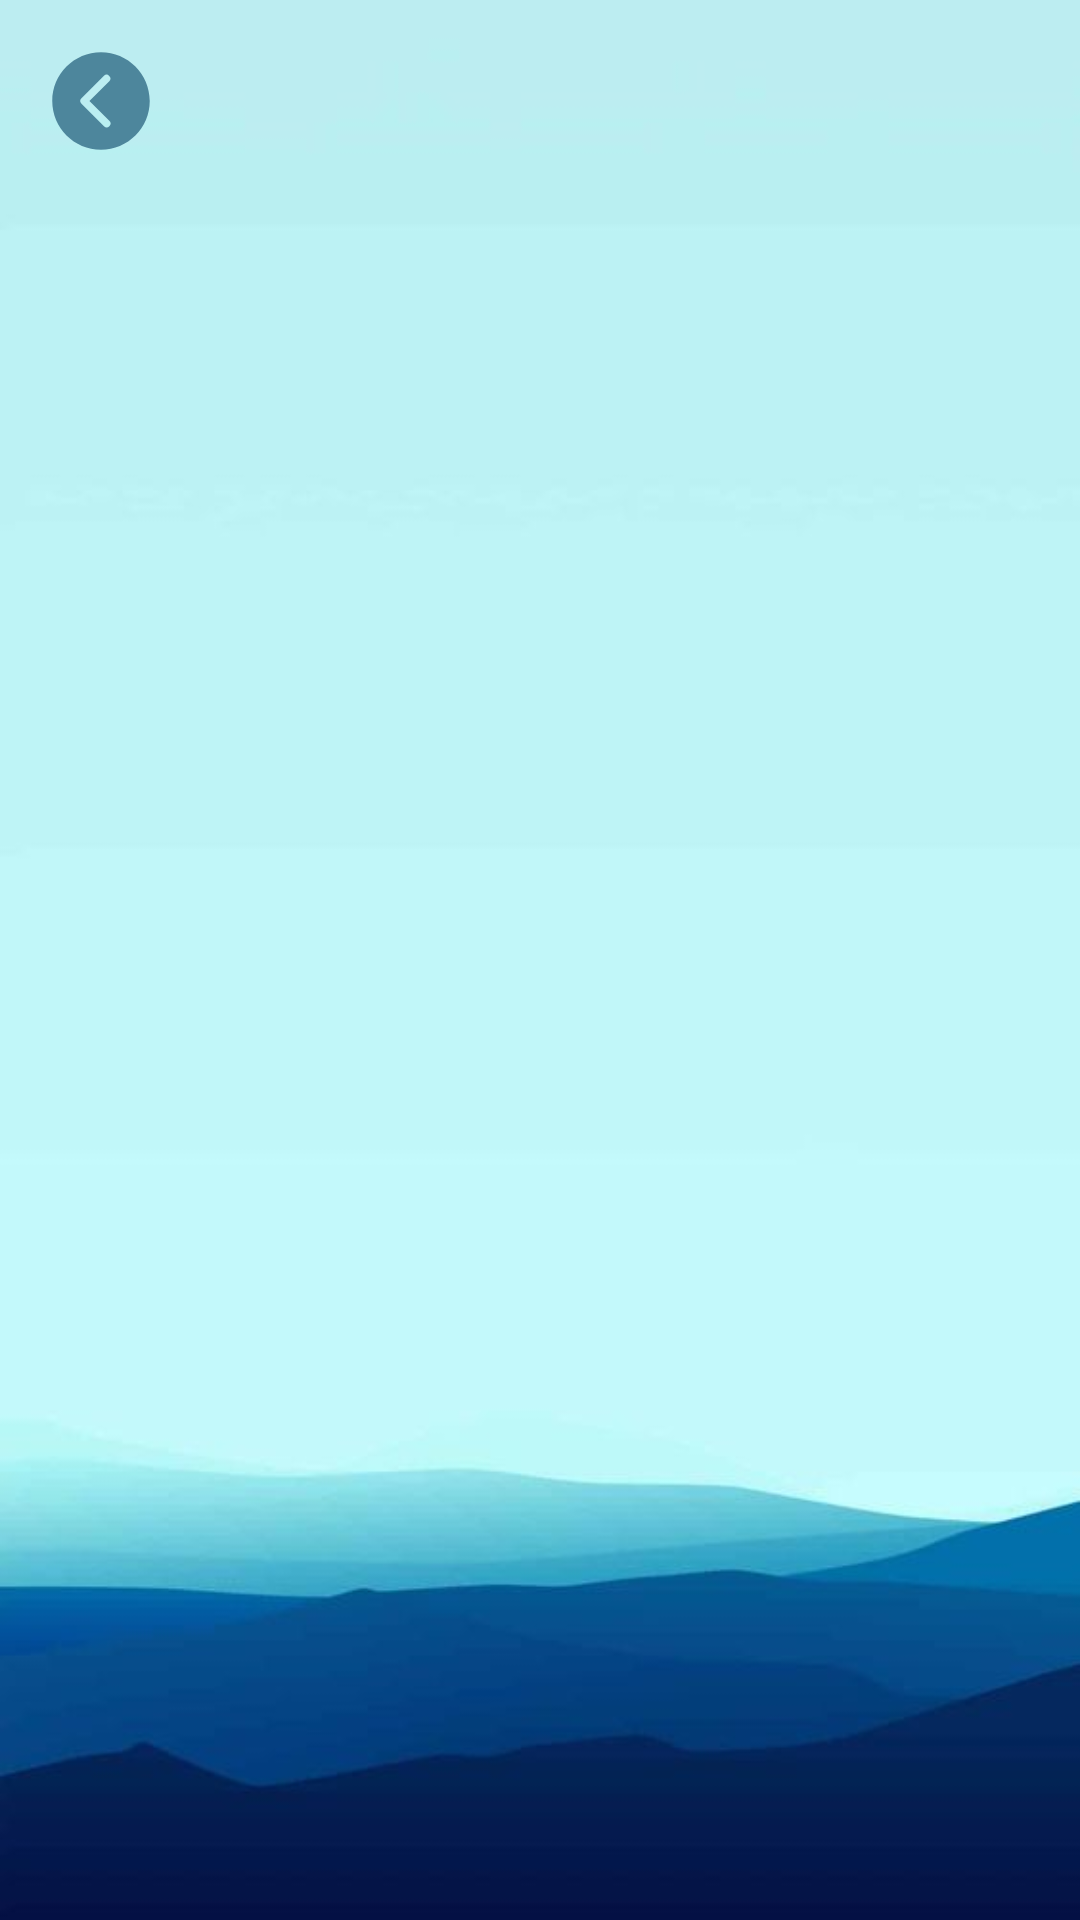

Icon click points for this 1080 × 1920 phone screenshot, format (x=x, y=y):
back: (x=101, y=101)
